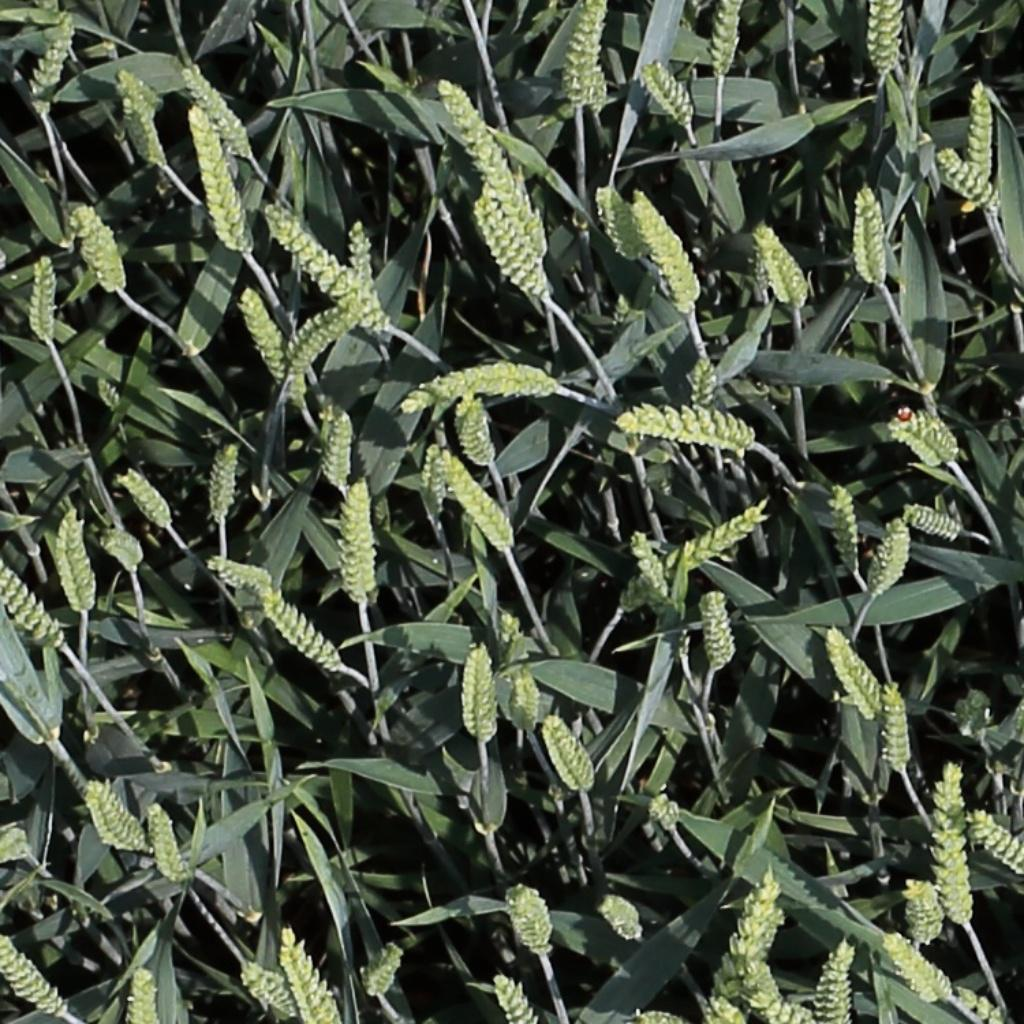0-0: (438, 72, 548, 263), (262, 200, 385, 329), (393, 359, 558, 421), (187, 95, 248, 259), (925, 749, 982, 924), (630, 182, 703, 315), (615, 398, 761, 460), (274, 301, 363, 399), (438, 446, 518, 554), (237, 281, 304, 408), (475, 192, 551, 301), (178, 58, 259, 159), (260, 589, 346, 675), (0, 928, 76, 1023), (0, 547, 68, 651), (680, 496, 778, 566), (826, 621, 888, 726), (49, 504, 103, 618), (742, 218, 808, 309), (882, 931, 955, 1006), (882, 404, 962, 472), (72, 197, 128, 293), (281, 931, 338, 1024), (27, 9, 76, 116), (84, 779, 150, 857), (588, 180, 647, 260), (542, 714, 598, 798), (117, 91, 168, 183), (641, 55, 700, 132), (935, 144, 1002, 211), (848, 184, 888, 295), (740, 866, 786, 959), (26, 248, 67, 352), (569, 2, 607, 110), (116, 465, 176, 532), (866, 0, 915, 81), (868, 516, 913, 604), (628, 525, 677, 604), (968, 811, 1024, 880), (146, 801, 189, 890), (460, 643, 496, 749), (238, 959, 300, 1018), (968, 76, 999, 189), (817, 936, 858, 1021), (348, 477, 375, 603), (454, 393, 496, 473), (509, 880, 550, 961), (831, 477, 864, 576), (346, 212, 379, 307), (208, 435, 241, 525), (884, 681, 914, 780), (490, 966, 537, 1024), (704, 585, 733, 677), (342, 483, 364, 604), (364, 940, 406, 1002), (712, 0, 742, 81), (208, 557, 277, 592), (909, 877, 942, 950), (329, 404, 354, 496), (115, 63, 165, 109), (902, 503, 965, 539), (96, 529, 146, 573), (746, 954, 785, 1010), (749, 991, 815, 1024), (423, 435, 447, 524), (88, 368, 128, 419), (951, 984, 1002, 1024), (600, 895, 645, 939), (513, 663, 539, 738), (648, 790, 685, 841), (959, 685, 989, 746), (692, 344, 716, 420), (131, 959, 155, 1024), (705, 989, 746, 1024), (491, 601, 522, 645), (0, 824, 28, 867), (634, 1011, 689, 1024)
